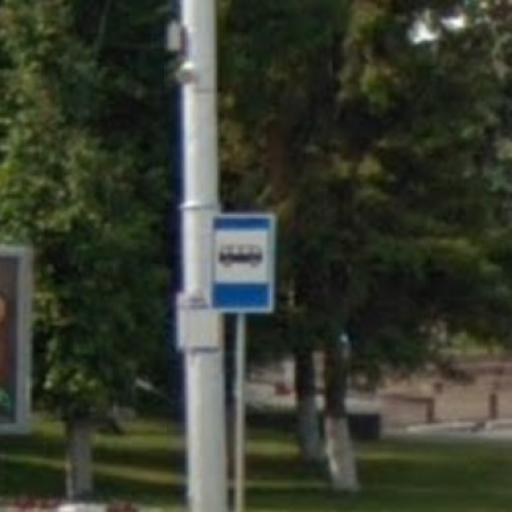traffic_sign: (206, 212, 278, 315)
